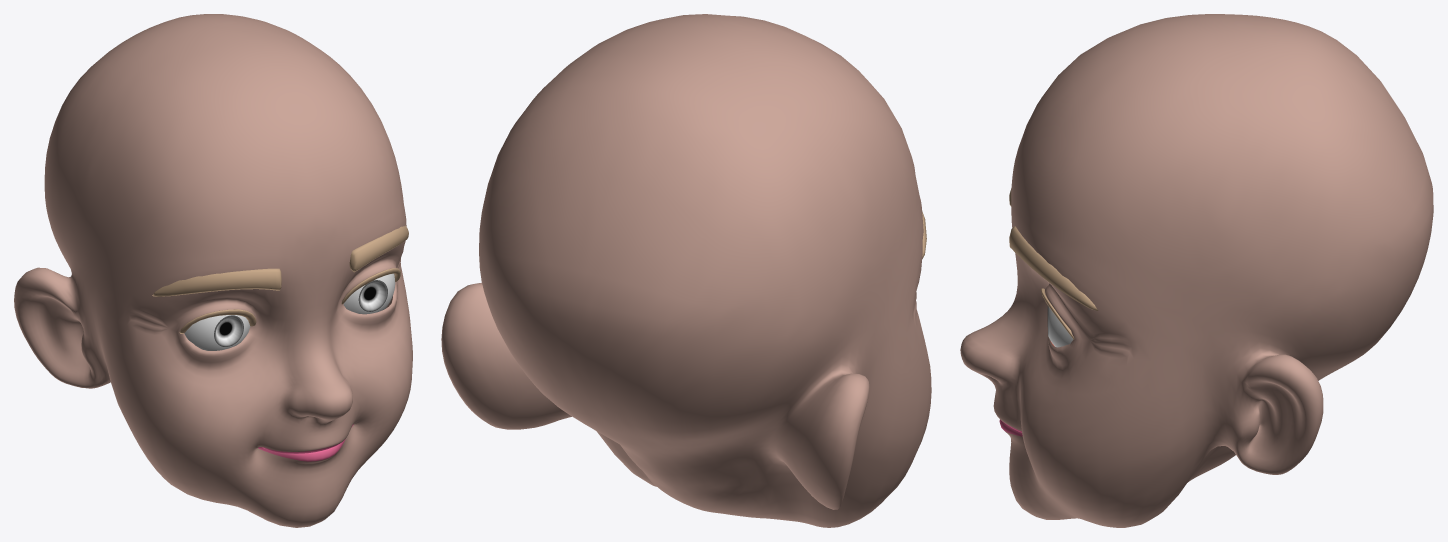
The picture shows the model from 3 angles, left to right: view 1: azimuth 30°, elevation 25°; view 2: azimuth 150°, elevation 25°; view 3: azimuth 270°, elevation 25°; orthographic projection. The views are drawn at different scales.
Parts seen in each view (by area): view 1: skin, brows, eyes, lashes; view 2: skin; view 3: skin, brows, eyes.
Part boxes in pixels (x1,y1,x2,y2): skin: [14, 14, 412, 527]; brows: [152, 225, 408, 296]; eyes: [184, 273, 395, 350]; lashes: [179, 268, 400, 333]; skin: [441, 14, 931, 527]; skin: [960, 14, 1433, 527]; brows: [1009, 188, 1098, 310]; eyes: [1047, 305, 1073, 347].
Bounding box in the file's own units: 1.64 × 2 × 1.79.
10 materials, 1 textured.
